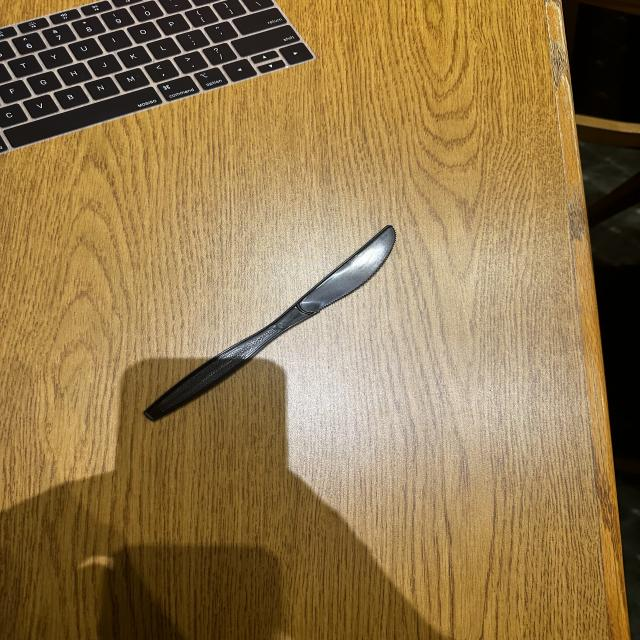knife: (129, 203, 434, 427)
